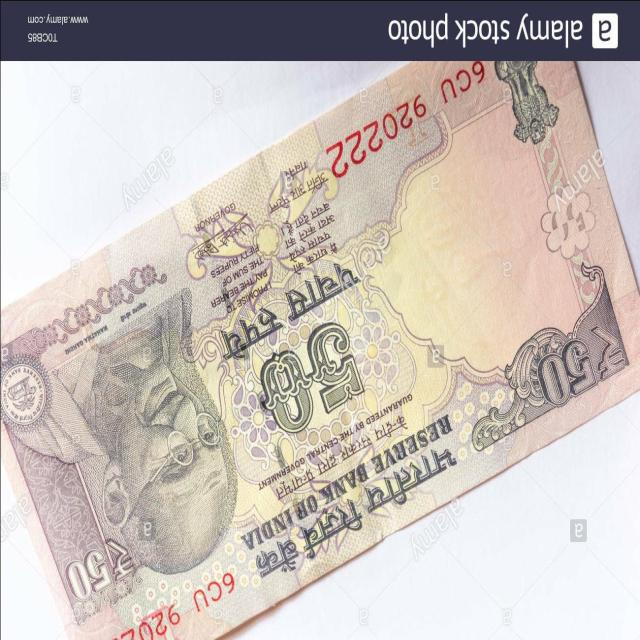50IndianRupees: (0, 59, 640, 636)
